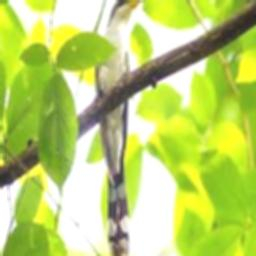Cuckoo: (95, 0, 145, 256)
